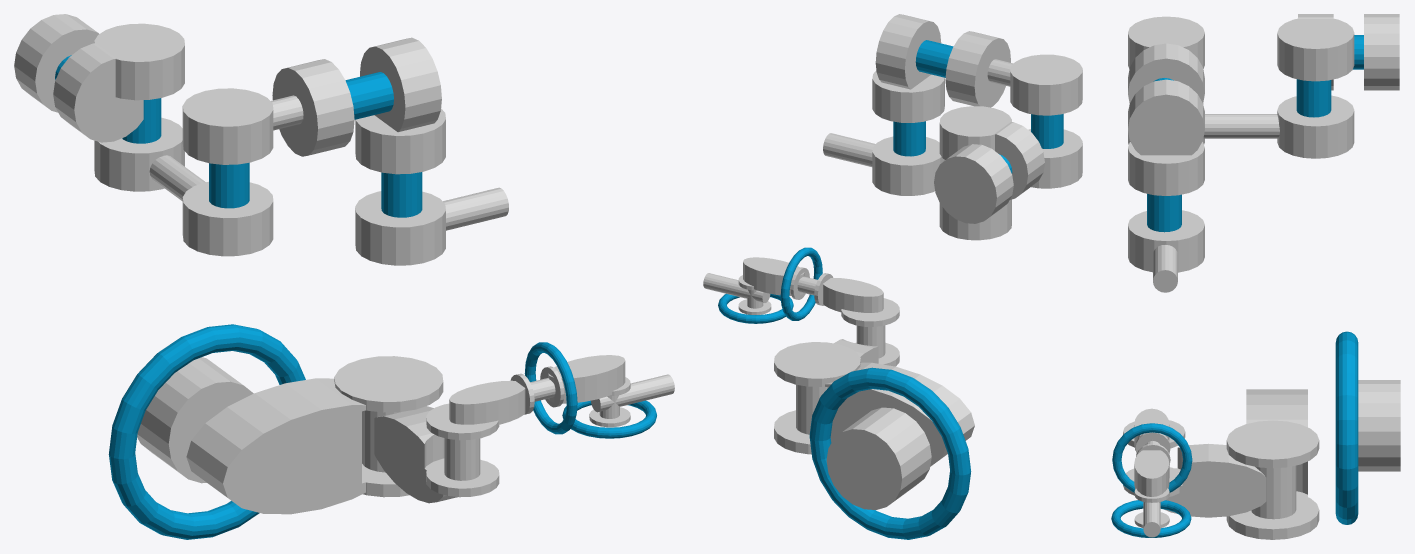
File: robo_hand.obj
3 views of the same model, side by side, from view 1: azimuth 30°, elevation 25°; view 2: azimuth 150°, elevation 25°; view 3: azimuth 270°, elevation 25° (orthographic). The views are drawn at different scales.
Visible parts, largest first — view 1: group_0_16448250, group_0_40919; view 2: group_0_16448250, group_0_40919; view 3: group_0_16448250, group_0_40919.
Part boxes in pixels (bbox=[...]): group_0_16448250: bbox=[14, 14, 674, 514]; group_0_40919: bbox=[55, 55, 656, 539]; group_0_16448250: bbox=[703, 14, 1082, 509]; group_0_40919: bbox=[718, 40, 1063, 539]; group_0_16448250: bbox=[1123, 14, 1400, 539]; group_0_40919: bbox=[1111, 35, 1363, 537].
Size of the model in its own units: 129 by 133 by 75.04.
